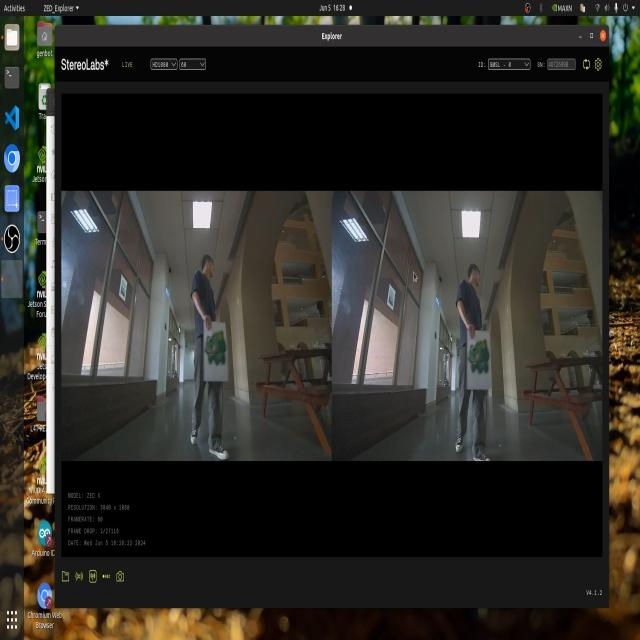green: (474, 335, 495, 389), (205, 335, 229, 375)
